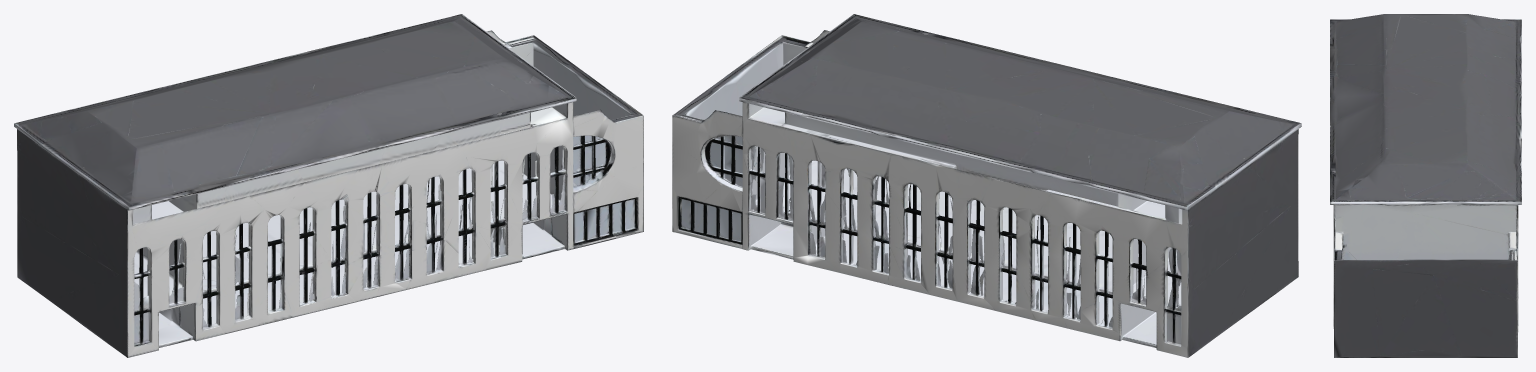
The model's file is toa_e.glb.
3 renders of one model, left to right at view 1: azimuth 30°, elevation 25°; view 2: azimuth 150°, elevation 25°; view 3: azimuth 270°, elevation 25°, orthographic. The views are drawn at different scales.
Size of the model in its own units: 1.9 by 0.6279 by 0.7301.
Materials: 1 (1 with a texture image).
